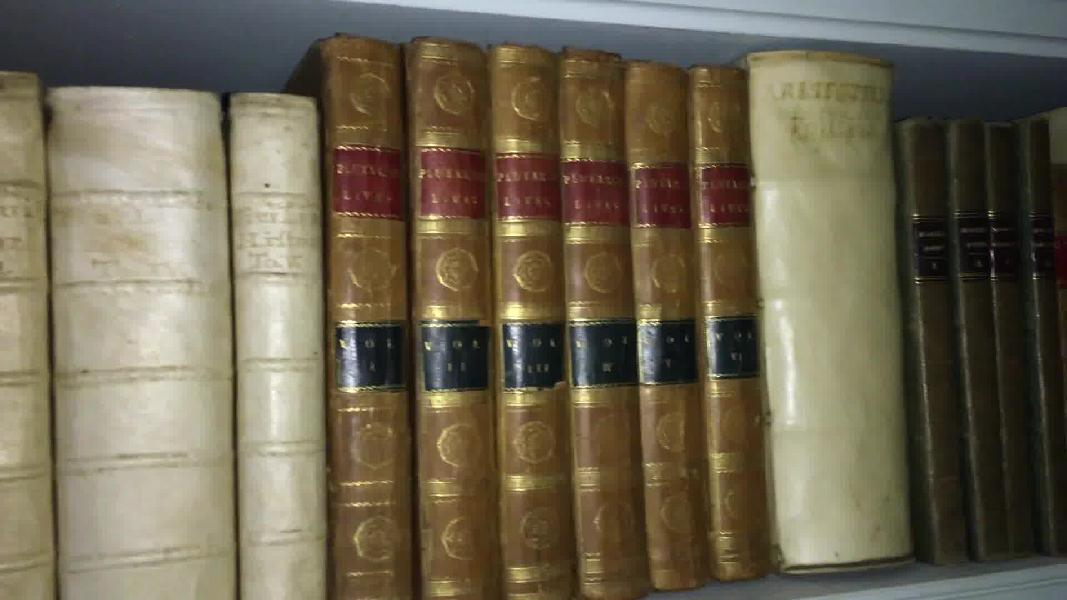Kk4-14: (739, 43, 923, 588)
Kk4-15_16: (886, 111, 1013, 575)
Kk4-17_18: (977, 107, 1067, 578)
Kk4-3_7: (2, 44, 335, 600)
Kk4-8_13: (306, 23, 778, 600)
